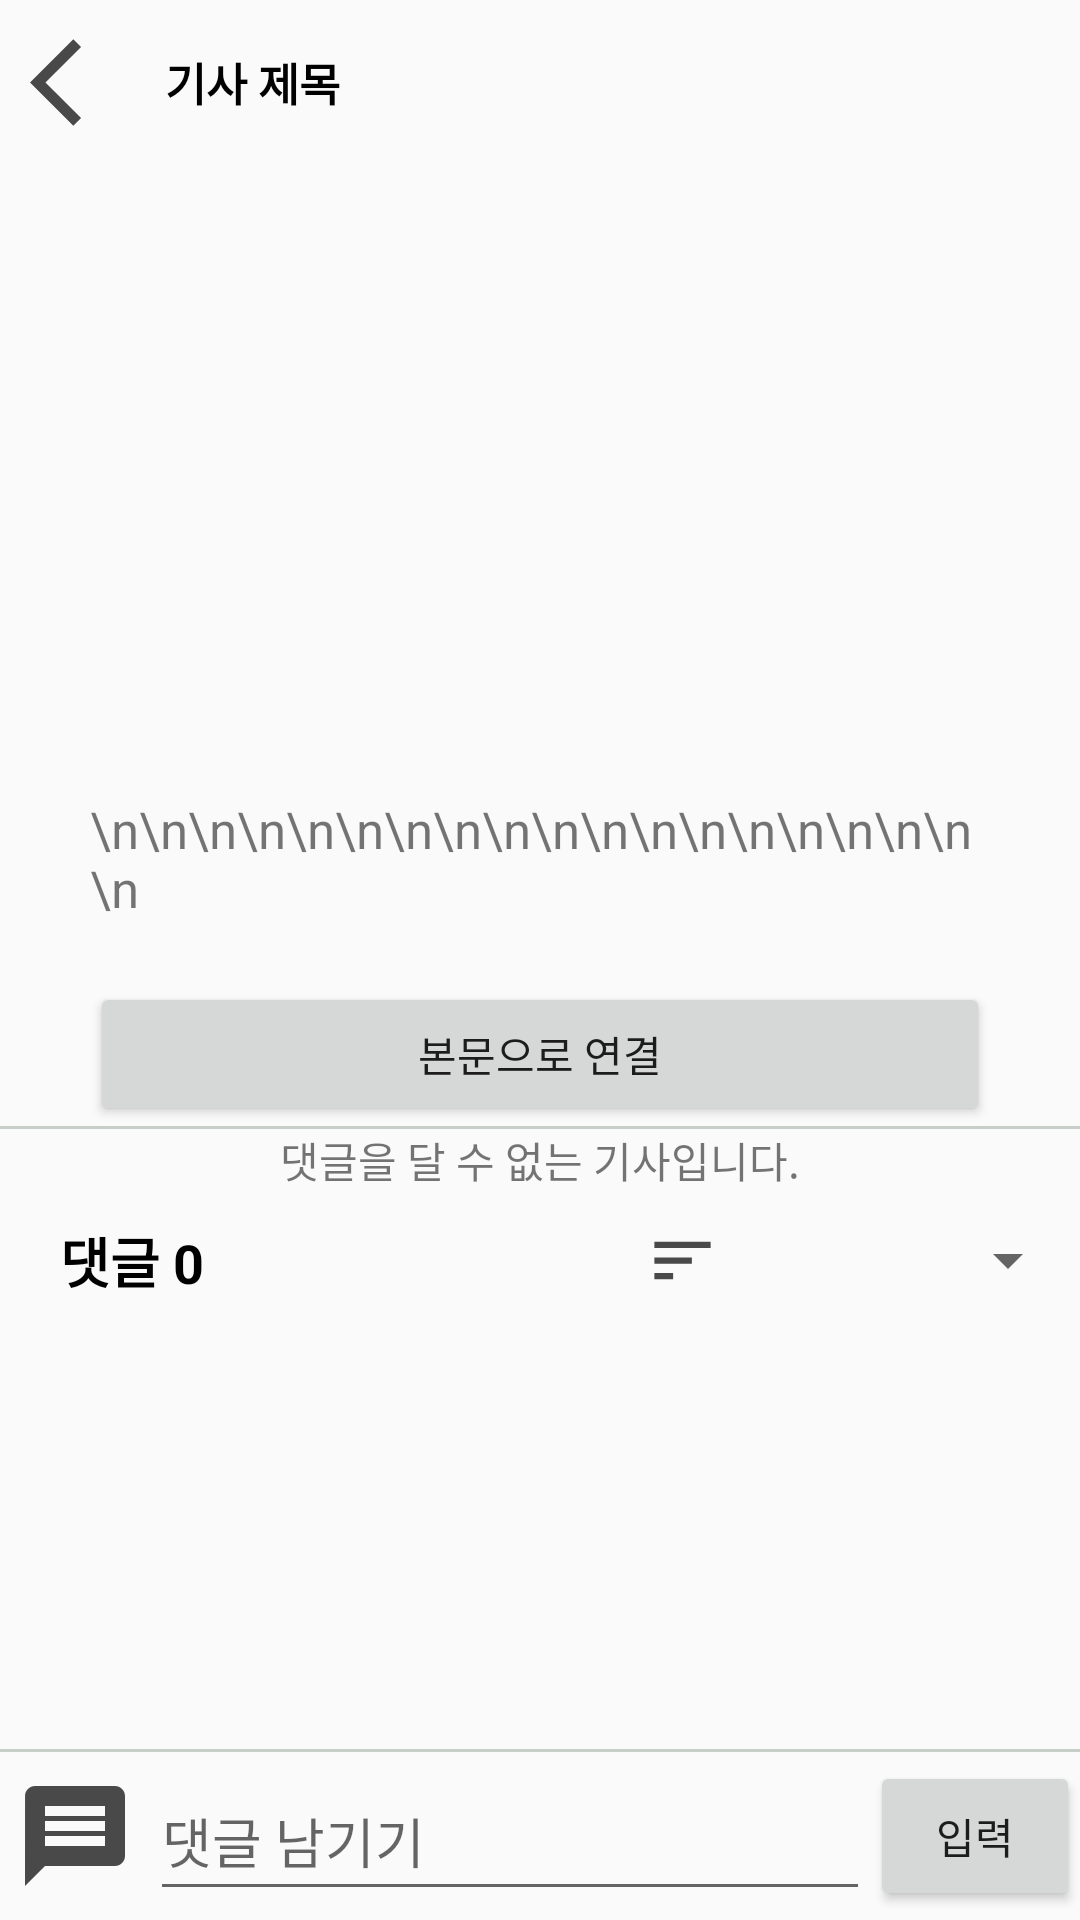

Icon click points for this 1080*1920 phone screenshot, format (x,y):
arrow back: (55,82)
message: (75,1836)
sort: (682,1260)
